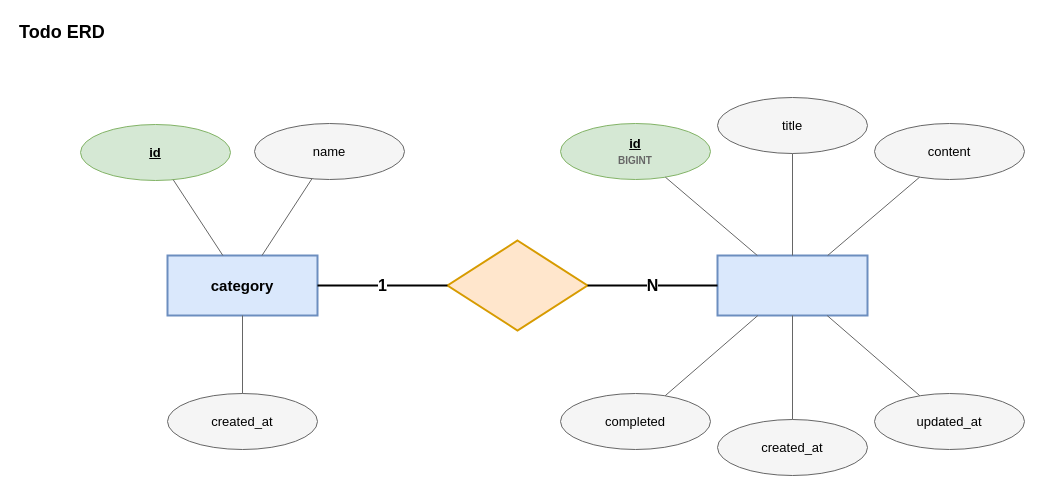
Image size: 1042x493. Some labels were removed from this diagram. Here are the shapes that lost their labels. From the top down, the centre of each, then its label:
At point 517,285: "속한다".
At point 792,285: "todo".
